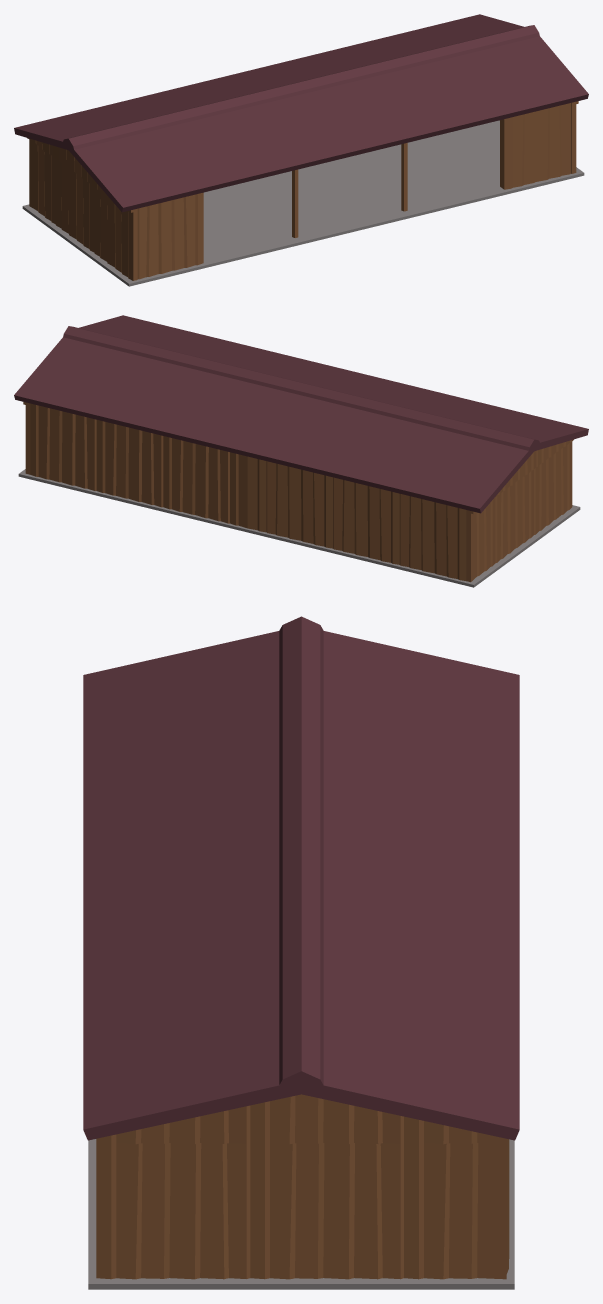
The model's file is SM_Building_Warehouse.fbx.
The picture shows the model from 3 angles, top to bottom: view 1: azimuth 30°, elevation 25°; view 2: azimuth 150°, elevation 25°; view 3: azimuth 270°, elevation 25°; orthographic projection. The views are drawn at different scales.
Visible parts, largest first — view 1: SM_Building_Warehouse; view 2: SM_Building_Warehouse; view 3: SM_Building_Warehouse.
Boxes of the visible parts, bbox=[...] form: SM_Building_Warehouse: bbox=[14, 14, 588, 286]; SM_Building_Warehouse: bbox=[14, 315, 588, 587]; SM_Building_Warehouse: bbox=[83, 616, 519, 1289].
Size of the model in its own units: 20.98 by 4.77 by 8.51.
